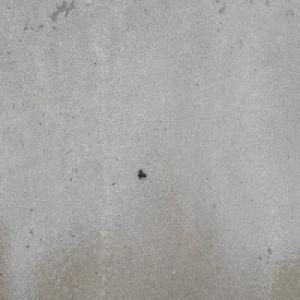BoltWasher: (137, 168, 146, 179)
